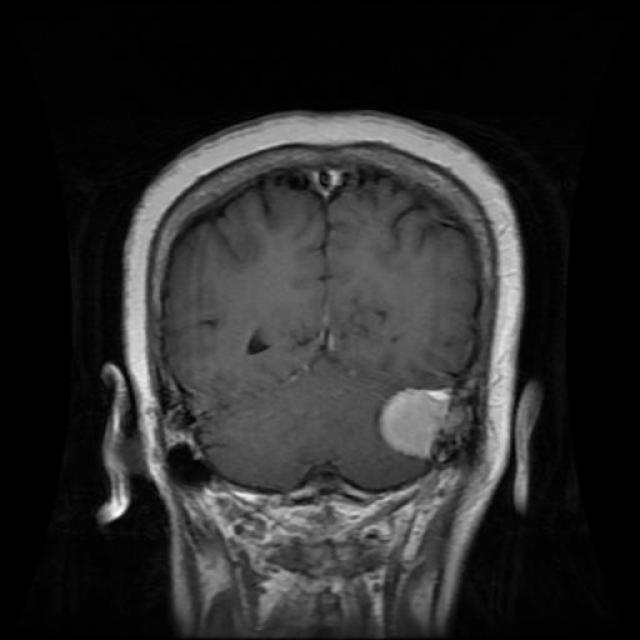Tumor: (378, 385, 458, 467)
